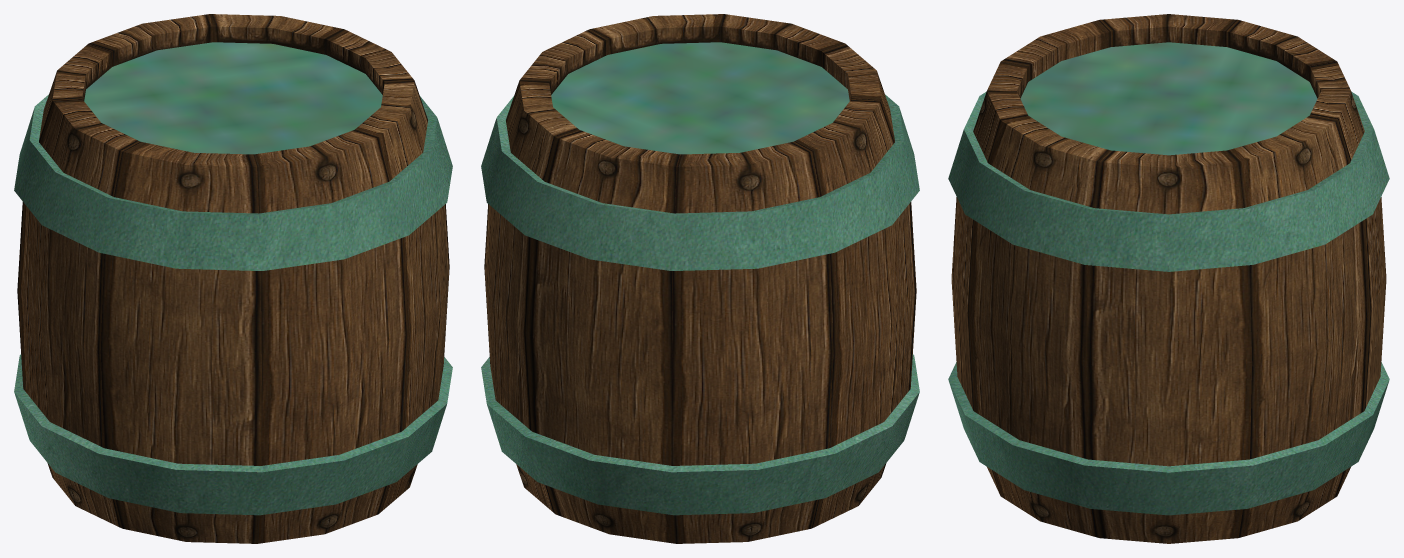
Rendered from Wood_Barrel_Jack.fbx.
3 renders of one model, left to right at view 1: azimuth 30°, elevation 25°; view 2: azimuth 150°, elevation 25°; view 3: azimuth 270°, elevation 25°, orthographic.
Visible parts, largest first — view 1: Wood_Barrel_Jack; view 2: Wood_Barrel_Jack; view 3: Wood_Barrel_Jack.
Boxes of the visible parts, <box> form: Wood_Barrel_Jack: <box>14,14,452,543</box>; Wood_Barrel_Jack: <box>481,14,919,543</box>; Wood_Barrel_Jack: <box>948,14,1389,543</box>.
Size of the model in its own units: 77.9 by 73.2 by 77.9.
